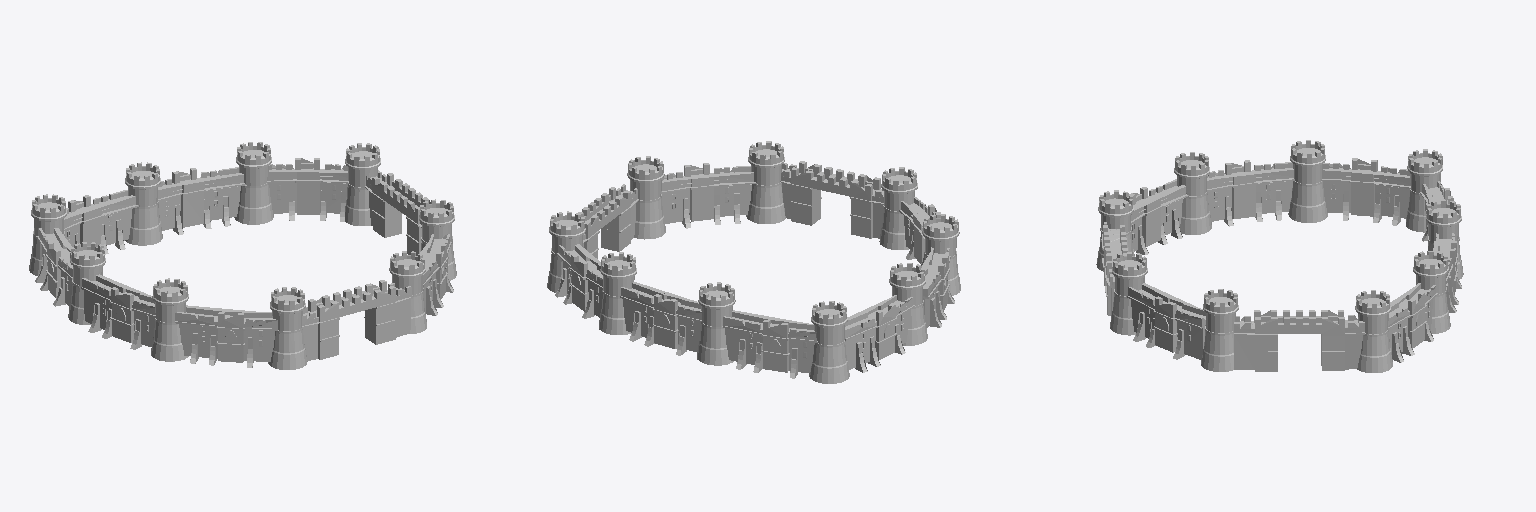
Rendered from Arquitectura cosmic.obj.
The picture shows the model from 3 angles: view 1: azimuth 30°, elevation 25°; view 2: azimuth 150°, elevation 25°; view 3: azimuth 270°, elevation 25°; orthographic projection.
Visible parts, largest first — view 1: Entrada.000_entrada.000, Muralla.000_muralla.000, Muralla.001_muralla.010, Muralla.003_muralla.011, Muralla.006_muralla.007, Muralla.002_muralla.009, Entrada.001_entrada.001, Torre.001_torre.010, Torre.006_torre.015, Torre.005_torre.014, Torre.002_torre.011, Torre.007_torre.016 (+6 smaller); view 2: Entrada.000_entrada.000, Muralla.005_muralla.013, Muralla.002_muralla.009, Muralla.001_muralla.010, Muralla.007_muralla.008, Entrada.001_entrada.001, Torre.004_torre.013, Torre.009_torre.009, Muralla.003_muralla.011, Torre_torre, Torre.005_torre.014, Torre.006_torre.015 (+6 smaller); view 3: Entrada.001_entrada.001, Muralla.007_muralla.008, Muralla.006_muralla.007, Muralla.005_muralla.013, Muralla.000_muralla.000, Torre.003_torre.012, Muralla.003_muralla.011, Torre_torre, Torre.007_torre.016, Torre.002_torre.011, Torre.009_torre.009, Torre.004_torre.013 (+6 smaller).
Part boxes in pixels (bbox=[...]): Entrada.000_entrada.000: bbox=[302, 280, 412, 360]; Muralla.000_muralla.000: bbox=[175, 305, 277, 367]; Muralla.001_muralla.010: bbox=[158, 167, 245, 234]; Muralla.003_muralla.011: bbox=[267, 158, 348, 221]; Muralla.006_muralla.007: bbox=[81, 274, 155, 349]; Muralla.002_muralla.009: bbox=[64, 190, 138, 254]; Entrada.001_entrada.001: bbox=[365, 170, 430, 255]; Torre.001_torre.010: bbox=[268, 287, 307, 369]; Torre.006_torre.015: bbox=[234, 142, 273, 224]; Torre.005_torre.014: bbox=[125, 162, 162, 245]; Torre.002_torre.011: bbox=[151, 278, 188, 361]; Torre.007_torre.016: bbox=[345, 143, 380, 225]; Entrada.000_entrada.000: bbox=[780, 161, 883, 238]; Muralla.005_muralla.013: bbox=[661, 163, 756, 228]; Muralla.002_muralla.009: bbox=[723, 310, 817, 378]; Muralla.001_muralla.010: bbox=[620, 282, 701, 355]; Muralla.007_muralla.008: bbox=[845, 295, 914, 372]; Entrada.001_entrada.001: bbox=[578, 184, 638, 258]; Torre.004_torre.013: bbox=[809, 301, 849, 383]; Torre.009_torre.009: bbox=[746, 141, 785, 223]; Muralla.003_muralla.011: bbox=[555, 244, 602, 318]; Torre_torre: bbox=[627, 156, 665, 239]; Torre.005_torre.014: bbox=[697, 282, 735, 365]; Torre.006_torre.015: bbox=[599, 252, 636, 334]; Entrada.001_entrada.001: bbox=[1234, 310, 1364, 371]; Muralla.007_muralla.008: bbox=[1321, 158, 1410, 225]; Muralla.006_muralla.007: bbox=[1207, 160, 1294, 226]; Muralla.005_muralla.013: bbox=[1127, 283, 1205, 359]; Muralla.000_muralla.000: bbox=[1129, 179, 1188, 254]; Torre.003_torre.012: bbox=[1288, 140, 1327, 222]; Muralla.003_muralla.011: bbox=[1388, 283, 1437, 362]; Torre_torre: bbox=[1201, 289, 1238, 371]; Torre.007_torre.016: bbox=[1355, 290, 1392, 372]; Torre.002_torre.011: bbox=[1174, 152, 1211, 234]; Torre.009_torre.009: bbox=[1110, 252, 1147, 335]; Torre.004_torre.013: bbox=[1406, 149, 1442, 232].
Size of the model in its own units: 159 by 30.07 by 147.